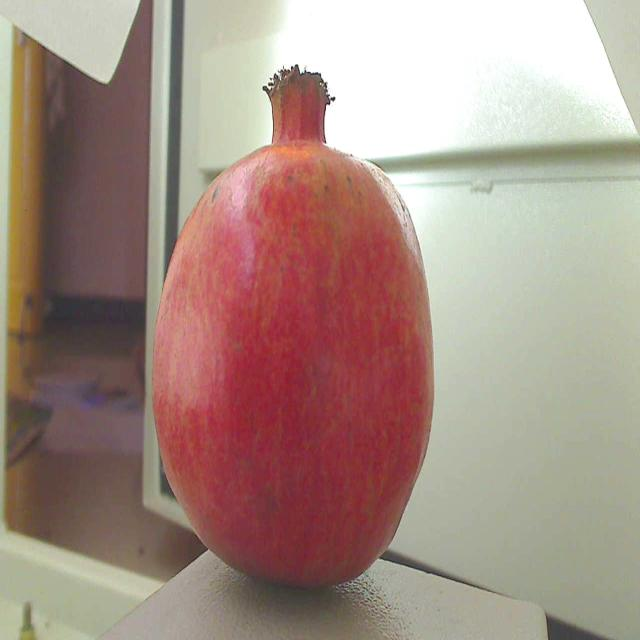pomegranate: (140, 58, 446, 597)
